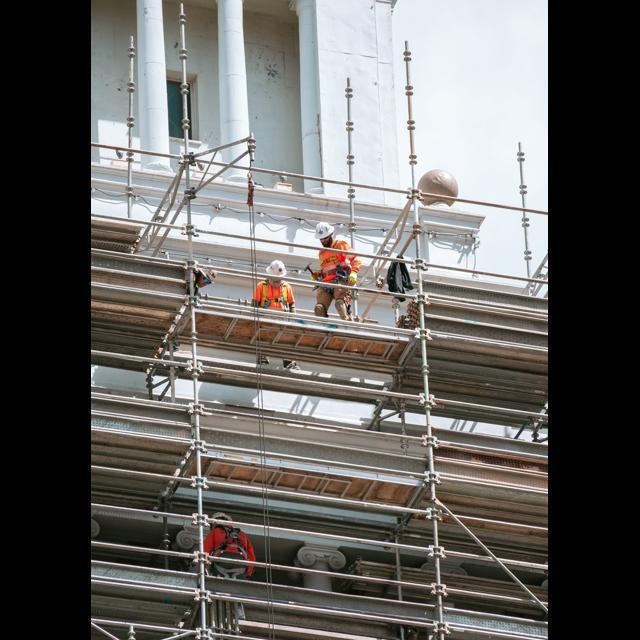Capacete: (418, 169, 457, 205), (265, 260, 286, 277), (315, 222, 334, 239), (212, 512, 231, 521)
Colete: (319, 249, 360, 281), (253, 280, 293, 310)
Pessoa: (312, 222, 360, 319), (203, 512, 255, 578), (203, 512, 255, 560), (252, 260, 294, 312)
